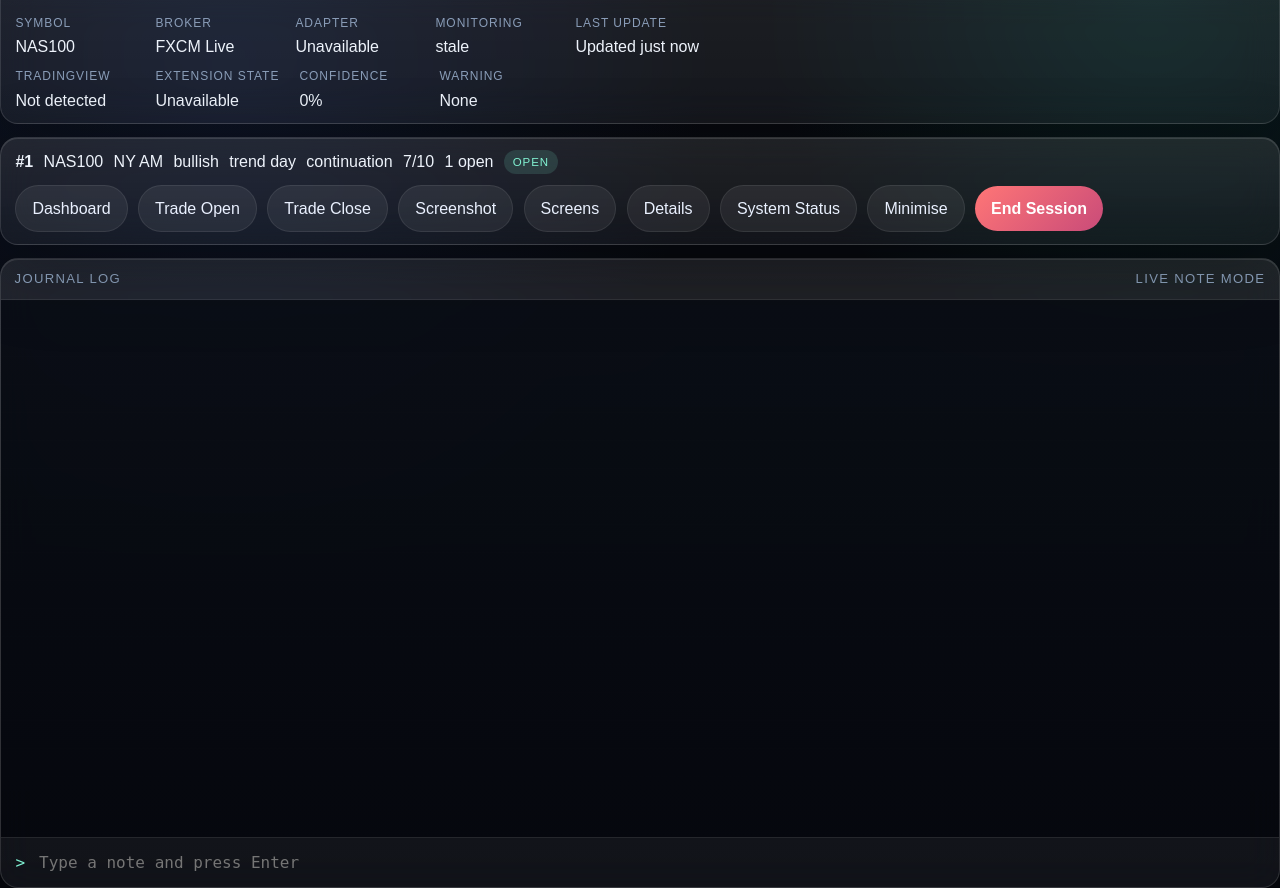
Test: JournalPage close-trade recovery › blocks close mode when the refreshed position shows nothing is open
The width and height of the screenshot is (1280, 888).
(page scrolled)
Click the button "Trade Close" at (328, 208), box [267,185,388,232]
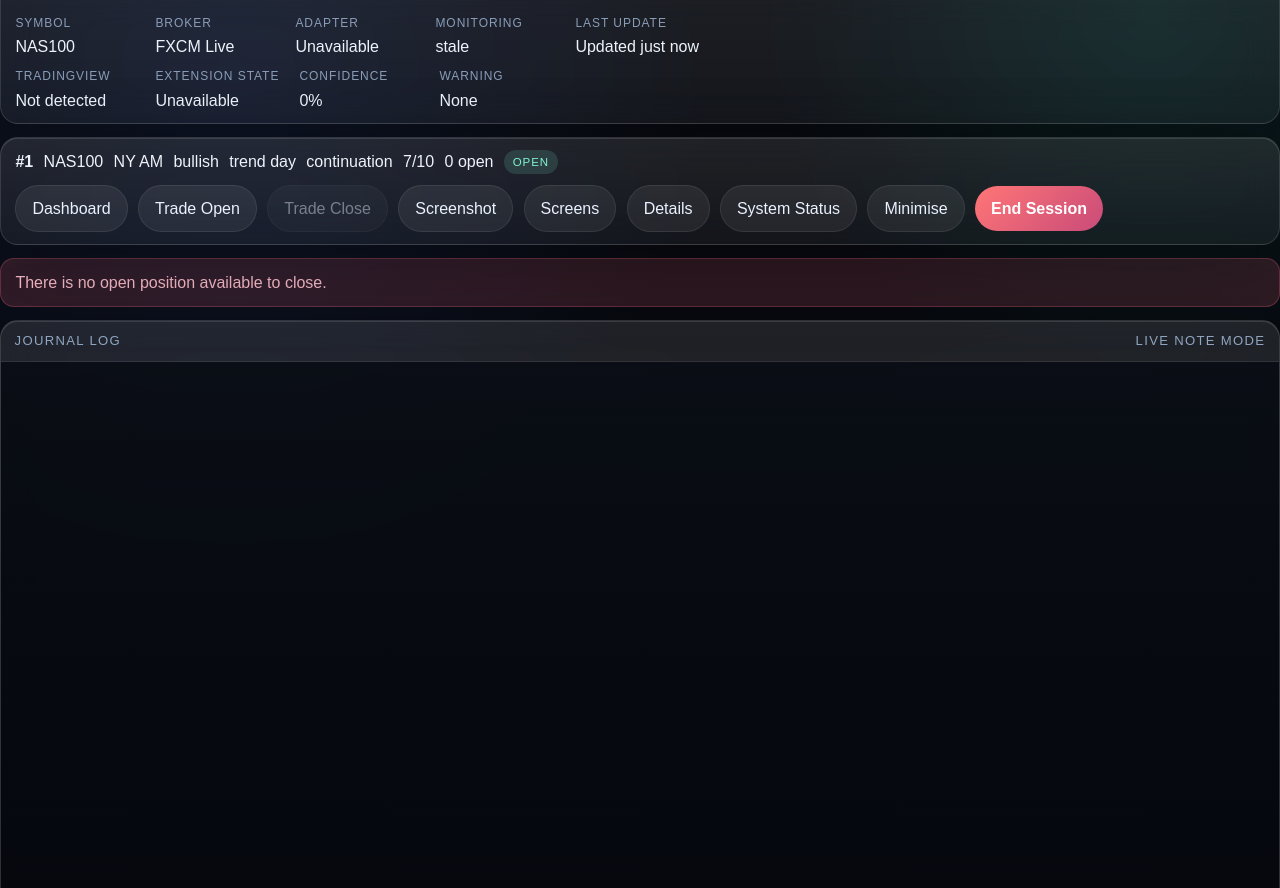
Expected: the text "There is no open position available to close." is shown, [0,258,1279,307]
